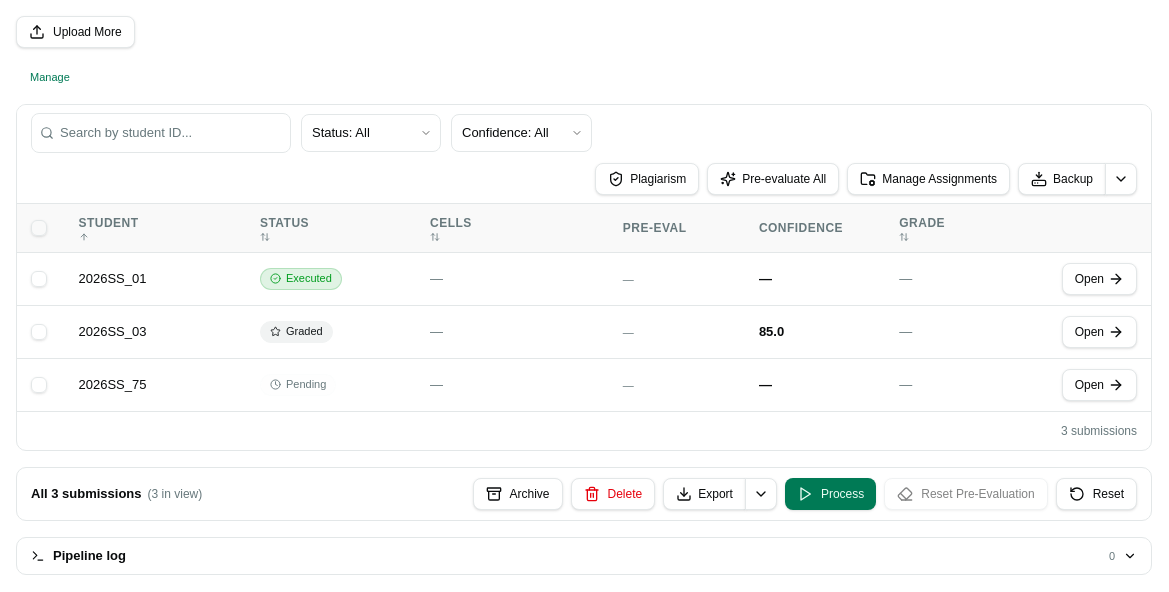
it: submissions dashboard bulk bar › switches the scope label once a row is selected
Expected: the link "2026SS_01" is shown, [78, 271, 146, 286]
Click the checkbox named "Select 2026SS_01": [39, 279] box [31, 271, 47, 287]
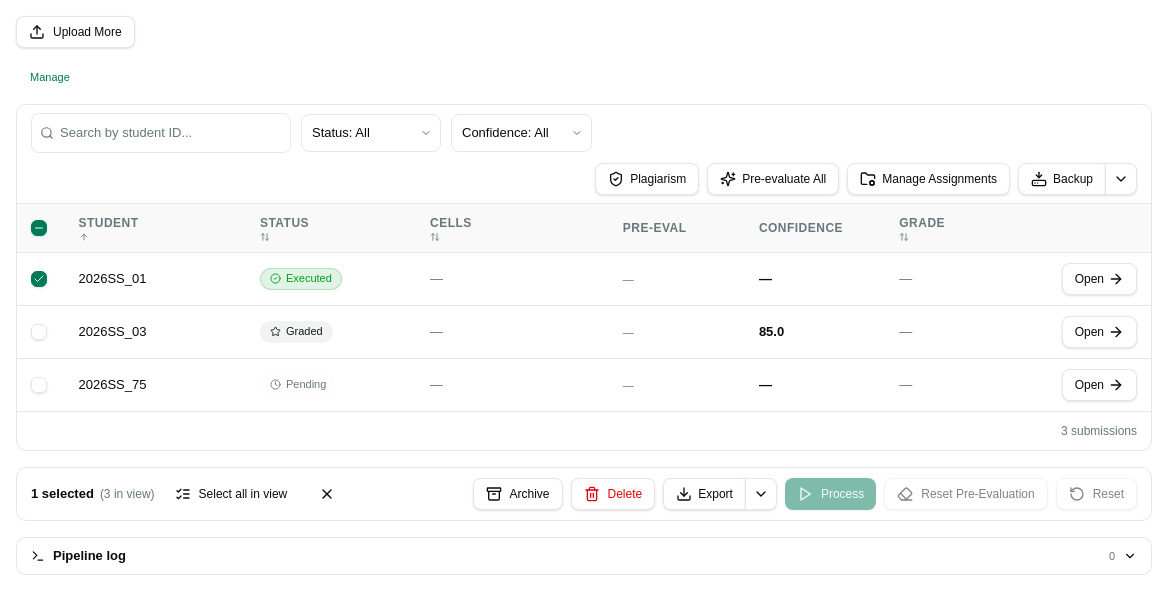
Expected: the text "1 selected (3 in view)" is shown, [31, 484, 155, 504]
Expected: the button "Reset" is disabled, [1056, 478, 1137, 510]
Expected: the button "Process" is disabled, [785, 478, 876, 510]
